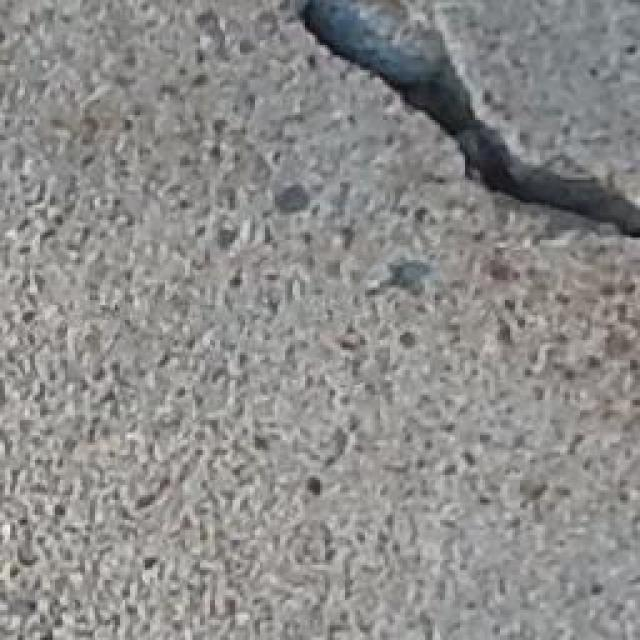concrete-crack: (291, 0, 640, 251)
